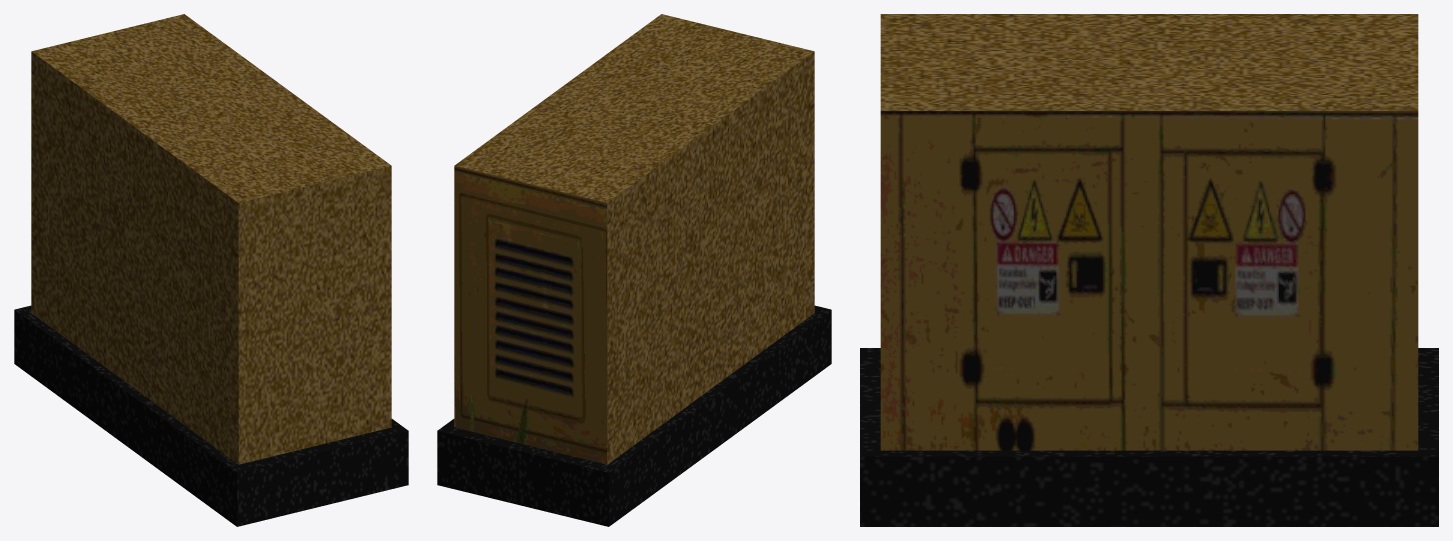
Rendered from GeradorEletrico.fbx.
3 renders of one model, left to right at view 1: azimuth 30°, elevation 25°; view 2: azimuth 150°, elevation 25°; view 3: azimuth 270°, elevation 25°, orthographic. The views are drawn at different scales.
Parts seen in each view (by area): view 1: Cube; view 2: Cube; view 3: Cube.
Boxes of the visible parts, bbox=[...] form: Cube: bbox=[14, 14, 408, 526]; Cube: bbox=[437, 14, 831, 526]; Cube: bbox=[860, 14, 1438, 526].
Size of the model in its own units: 154 by 270 by 346.
Materials: 1 (1 with a texture image).
